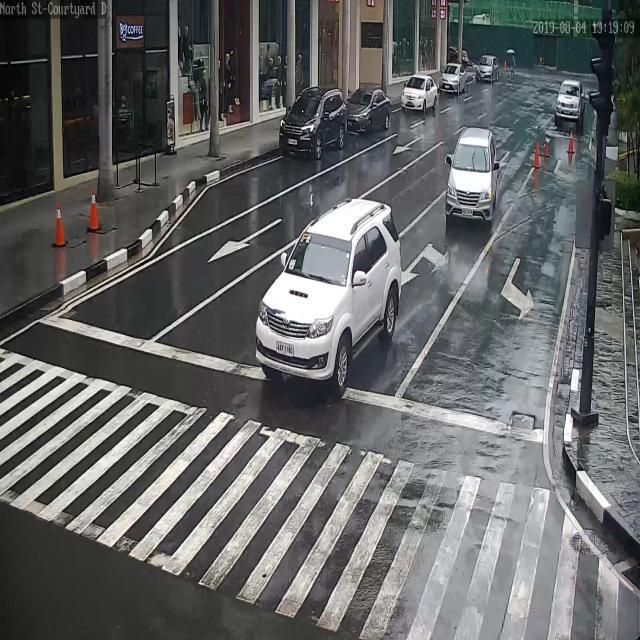car: (253, 198, 403, 393), (445, 124, 501, 221), (279, 85, 348, 158), (343, 87, 392, 134), (399, 73, 438, 114), (553, 77, 585, 123), (440, 63, 470, 94), (475, 54, 501, 82)
